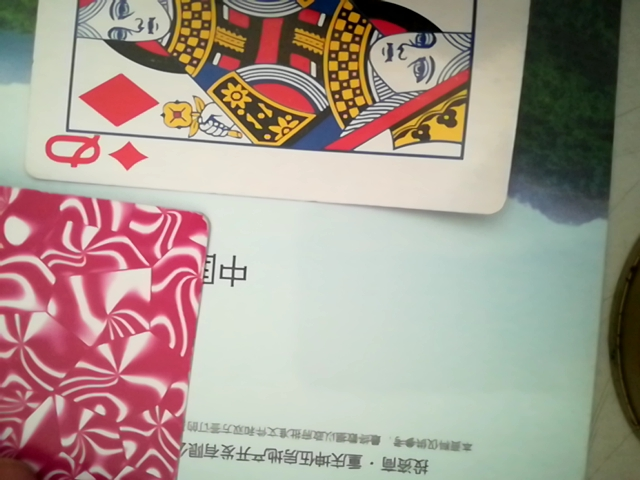fk q: (13, 0, 542, 223)
